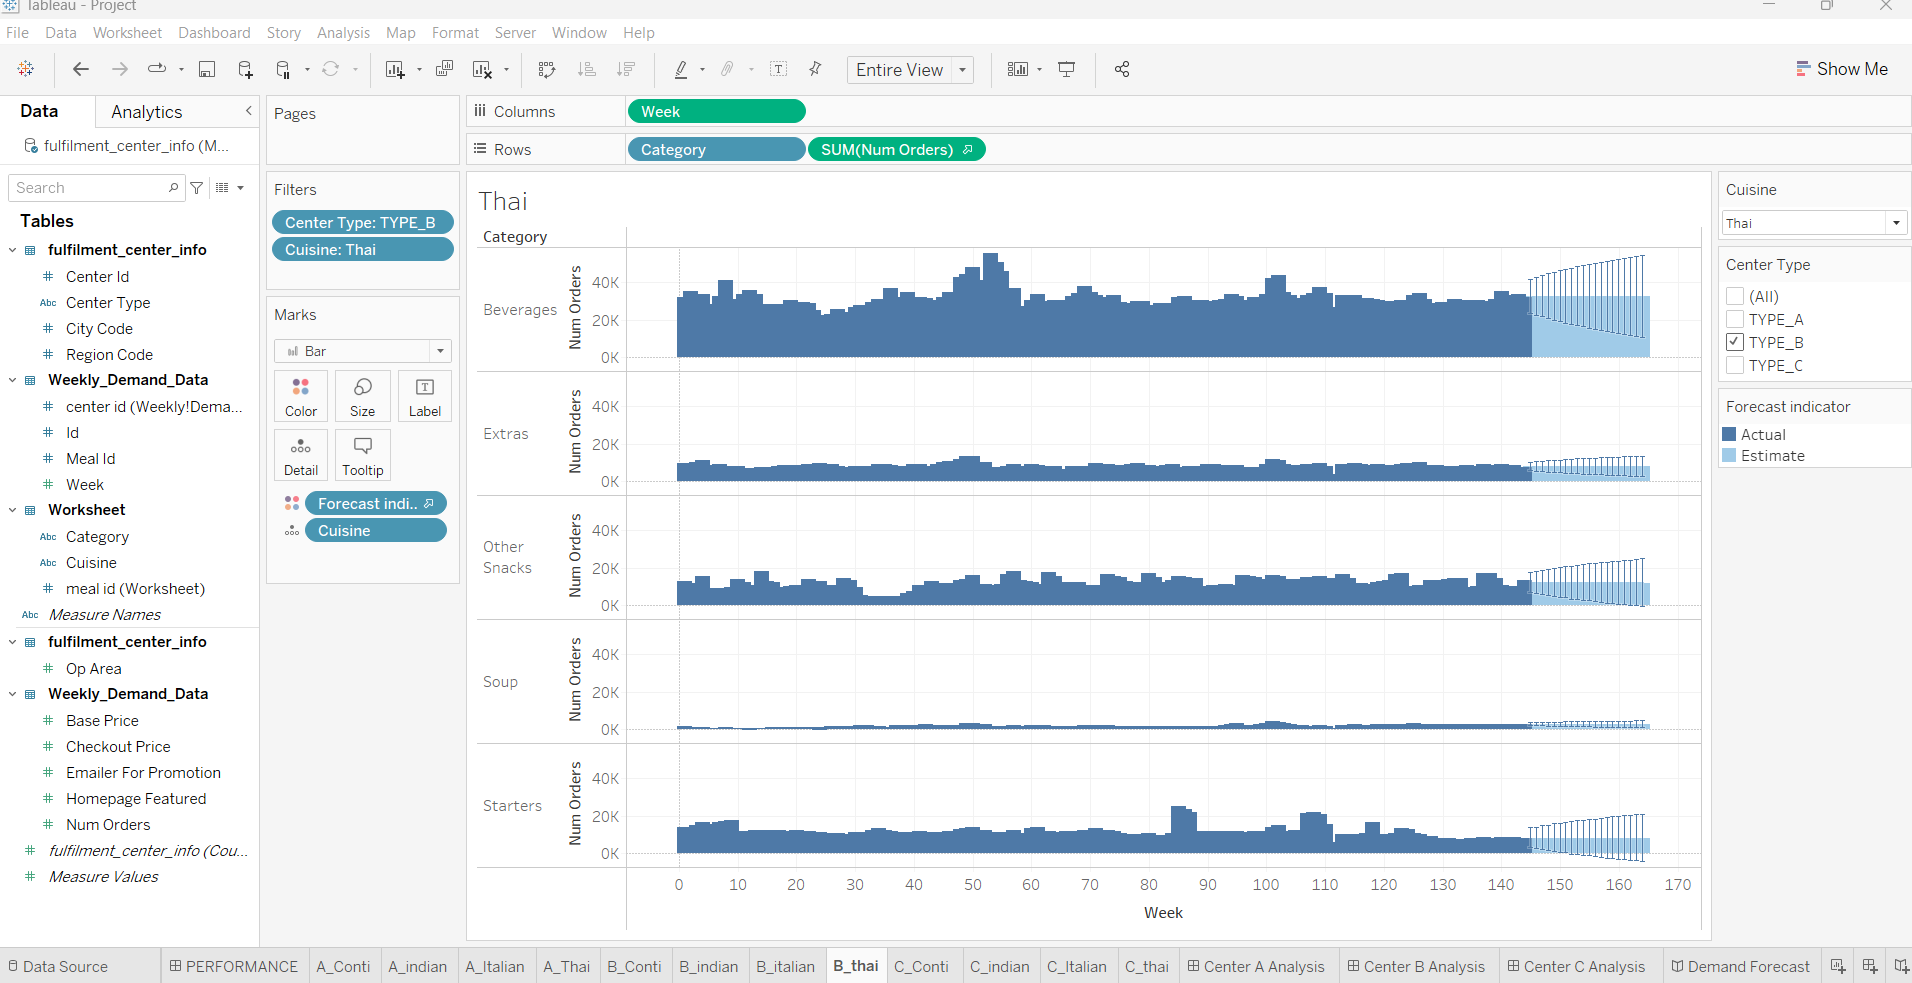

This screenshot's page, from the dashboard's own definition file:
{"tool":"tableau","page":{"name":"Center B Analysis","canvas":[1000,1000],"units":"permille","ordinal":1},"visuals":[{"type":"worksheet","title":"B_Conti","mark":"Bar","rows":["category","num_orders"],"cols":["week"],"box":[4.3,9.4,409.8,558.1]},{"type":"worksheet","title":"B_italian","mark":"Bar","rows":["category","num_orders"],"cols":["week"],"box":[414.1,9.4,395.1,558.1]},{"type":"worksheet","title":"Product_Contri_B","mark":"Automatic","rows":["num_orders"],"cols":["cuisine"],"box":[809.1,9.4,186.5,981.2]},{"type":"legend","title":"B_Conti","param":"[federated.02gnjzc1abb3r21g8mcvu0128urh].[none:Forecast Indicator:nk]","box":[602.9,14.1,116.3,92.8]},{"type":"worksheet","title":"B_indian","mark":"Bar","rows":["category","num_orders"],"cols":["week"],"box":[4.3,567.6,409.8,423.1]},{"type":"worksheet","title":"B_thai","mark":"Bar","rows":["category","num_orders"],"cols":["week"],"box":[414.1,567.6,395.1,423.1]}]}

Visuals, with their boxes on the dashboard's canvas, which has no fixed pixel size, in thousandths of its width and height (x1, y1, x2, y2). These are canvas units, not pixel positions in the 1912x983 screenshot, which may show the page scaled, cropped or inside an application window:
"B_Conti" worksheet (Bar marks): locate(4, 9, 414, 568)
"B_italian" worksheet (Bar marks): locate(414, 9, 809, 568)
"Product_Contri_B" worksheet: locate(809, 9, 996, 991)
"B_Conti" legend: locate(603, 14, 719, 107)
"B_indian" worksheet (Bar marks): locate(4, 568, 414, 991)
"B_thai" worksheet (Bar marks): locate(414, 568, 809, 991)
